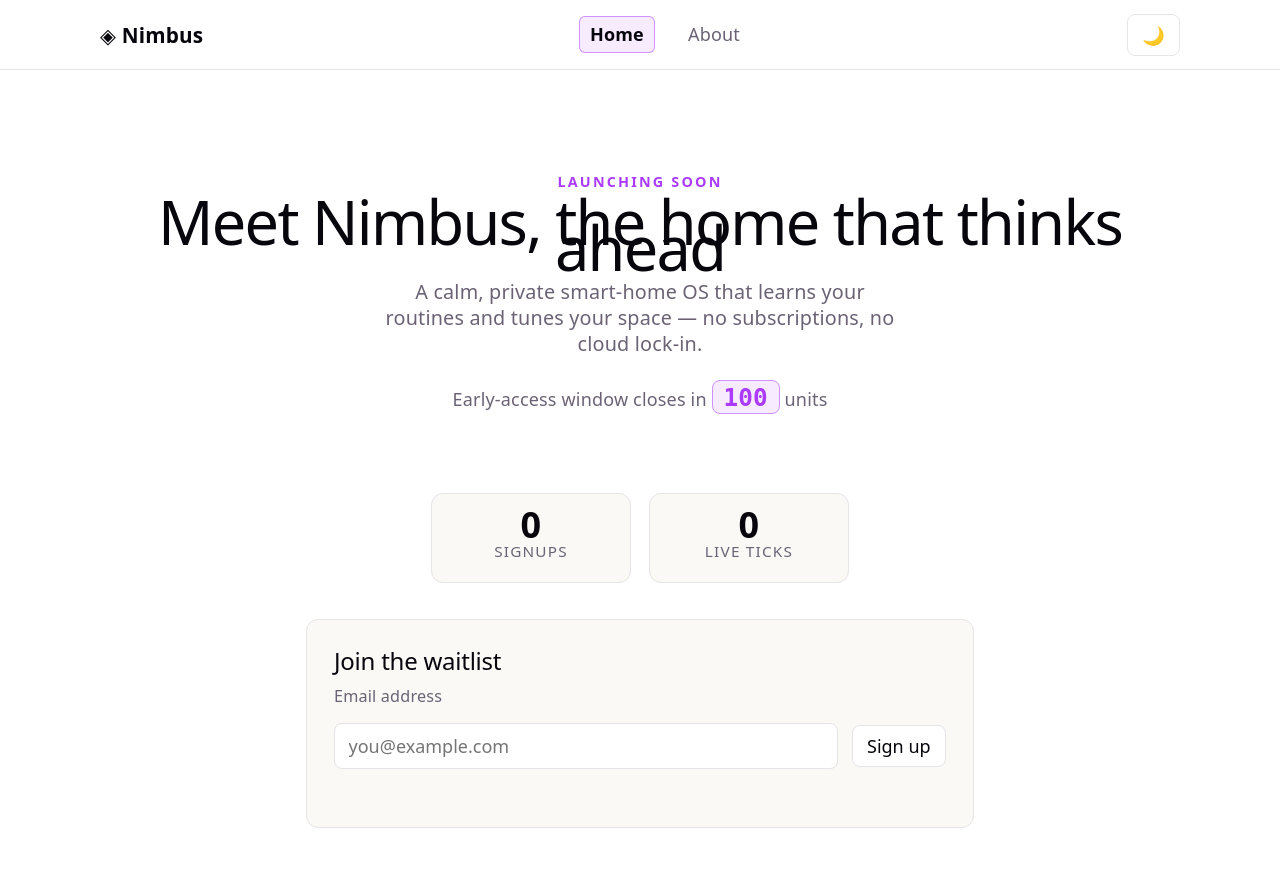
it: signup form › rejects a duplicate address
The width and height of the screenshot is (1280, 871).
Type "ada@example.com" into the field labelled "Email address". click: (586, 746)
box: [334, 723, 838, 769]
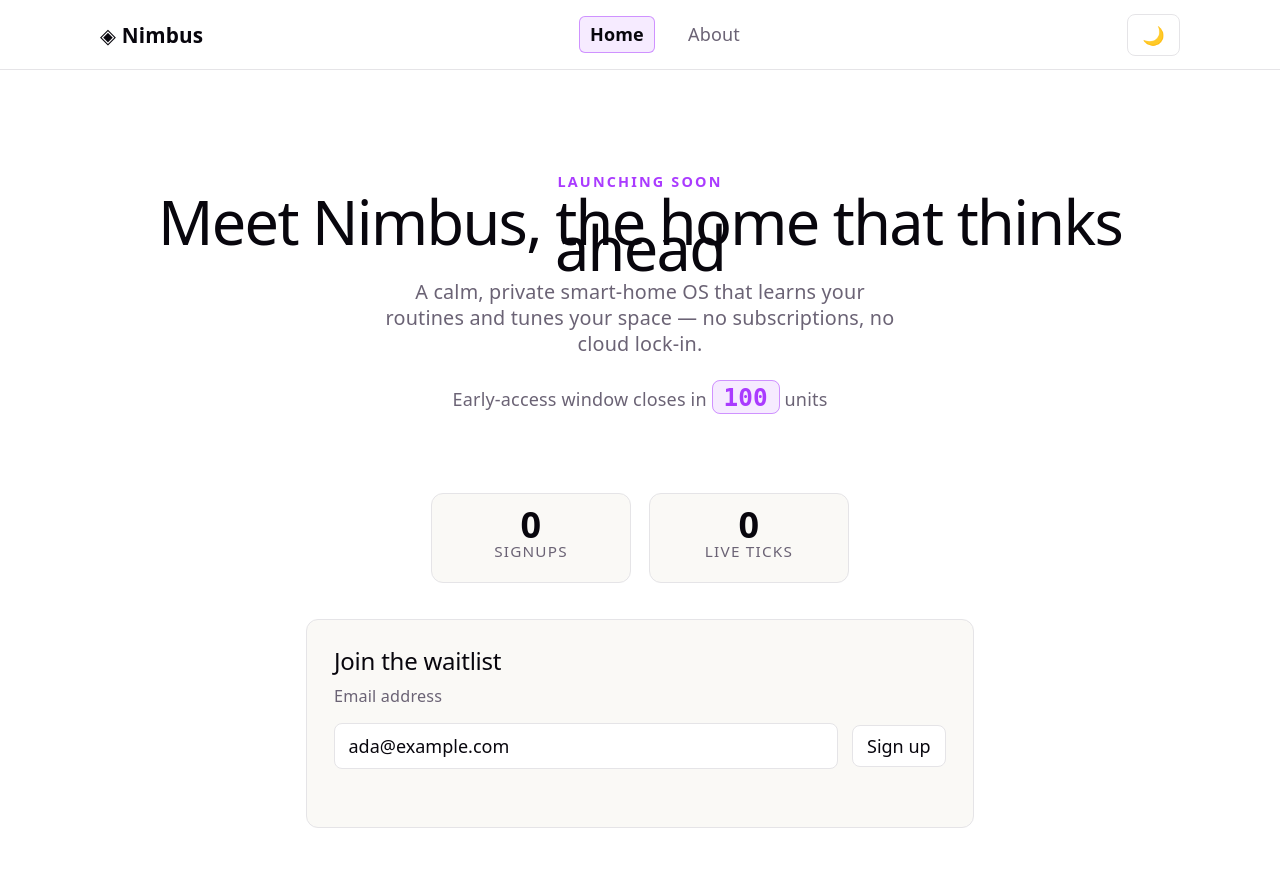
Submit the form with id "signup-form", box [334, 683, 946, 769]
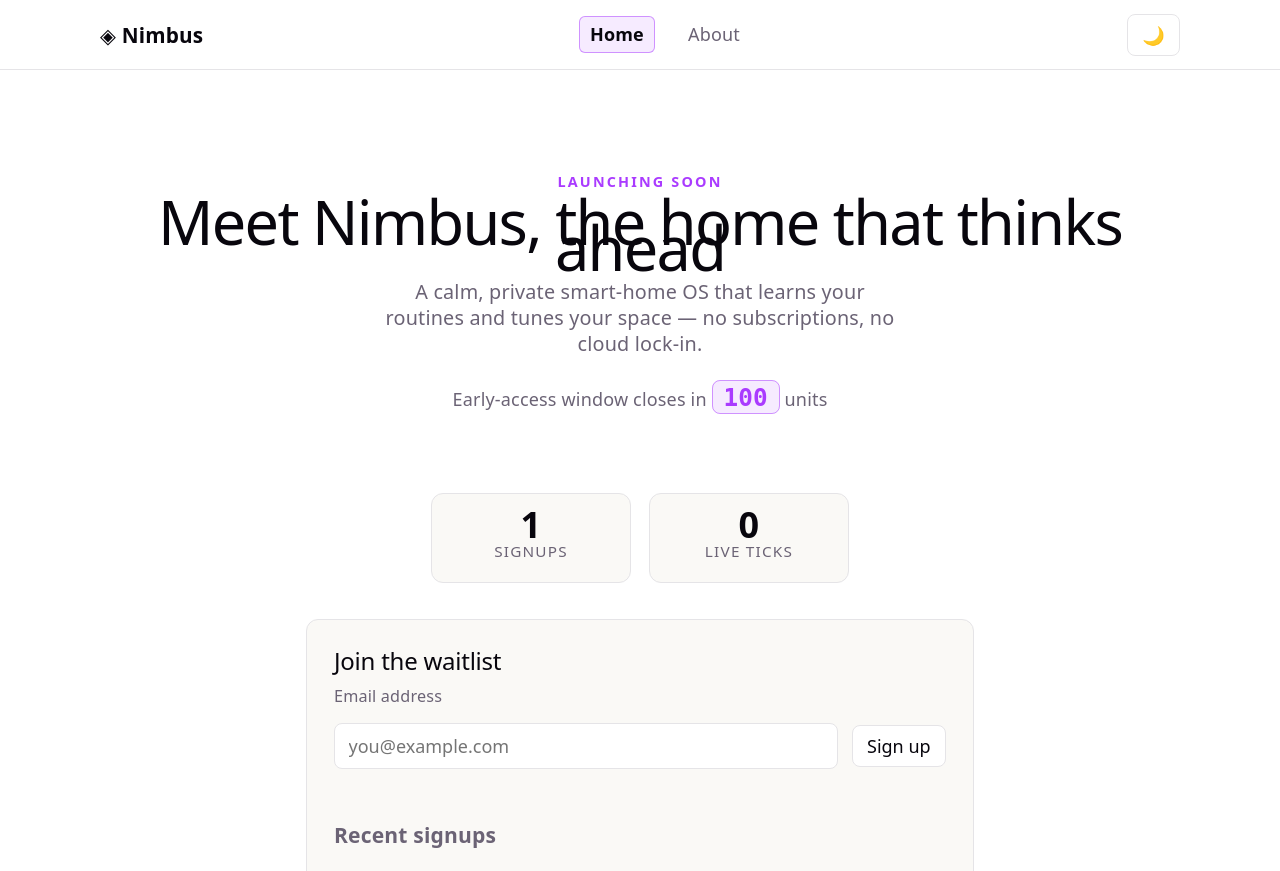
Type "ada@example.com" into the field labelled "Email address". click: (586, 746)
box: [334, 723, 838, 769]
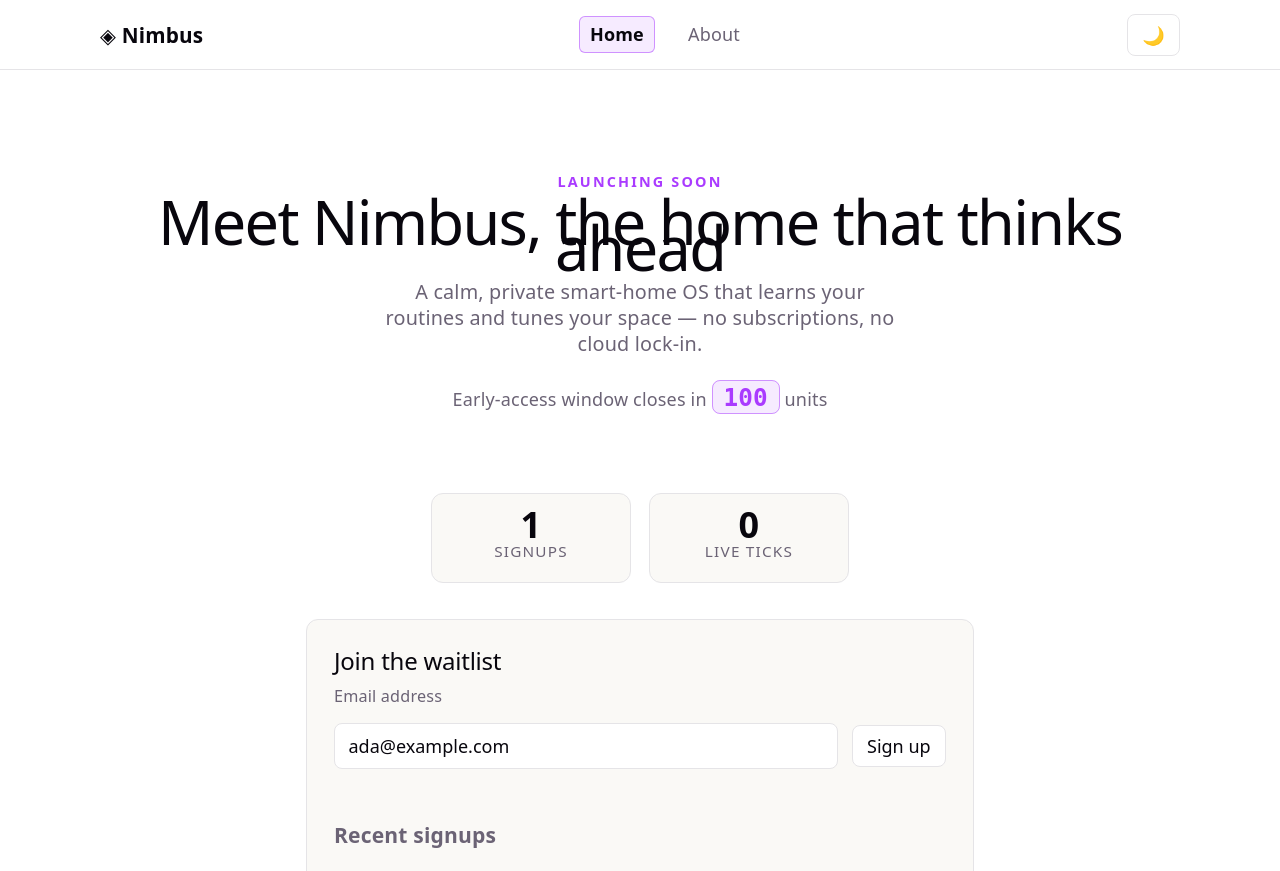
Submit the form with id "signup-form", box [334, 683, 946, 769]
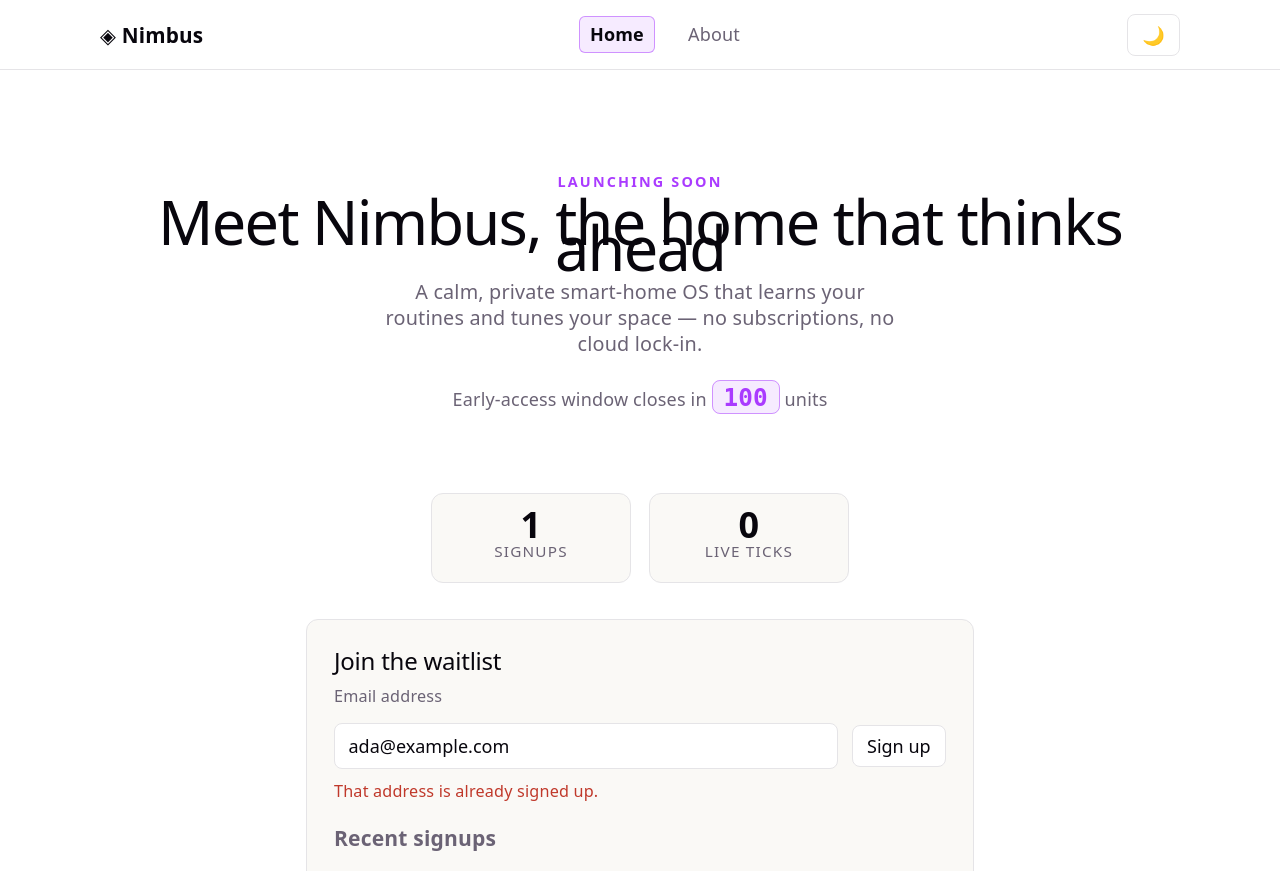
Now the message with id "signup-error" shows "already", box [334, 780, 598, 802]
